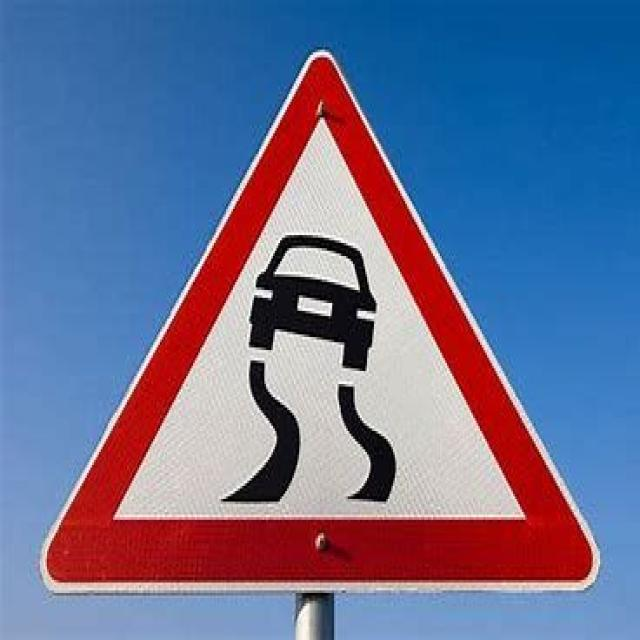SLIPPERY_ROAD: (37, 42, 611, 597)
